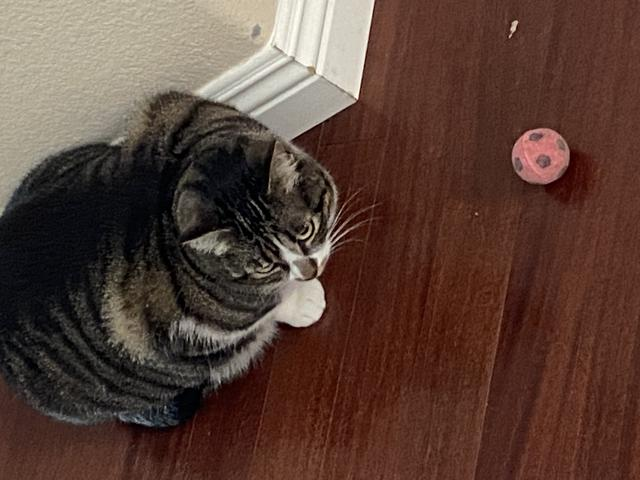playdoh: (1, 81, 341, 428)
